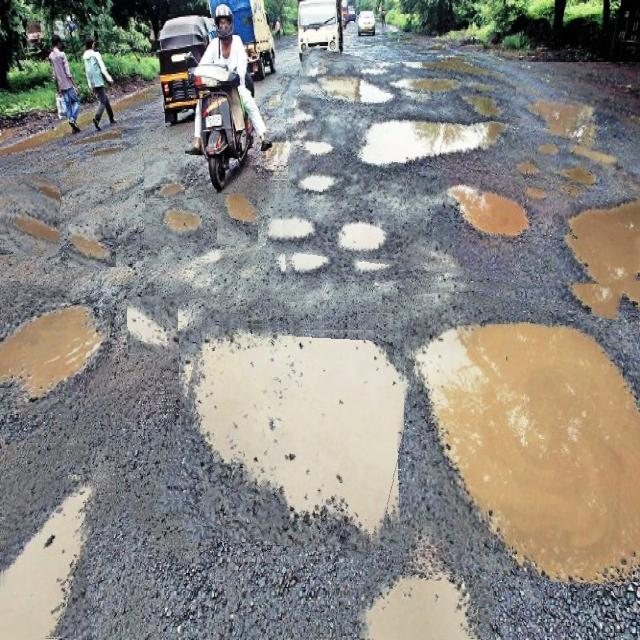Pothole: (272, 62, 640, 302), (393, 293, 640, 582), (166, 319, 404, 551), (0, 474, 91, 640), (0, 284, 111, 414), (357, 575, 495, 640), (0, 174, 60, 256), (128, 297, 178, 355), (144, 200, 204, 245), (217, 193, 258, 245), (68, 224, 116, 267), (145, 162, 185, 200)
